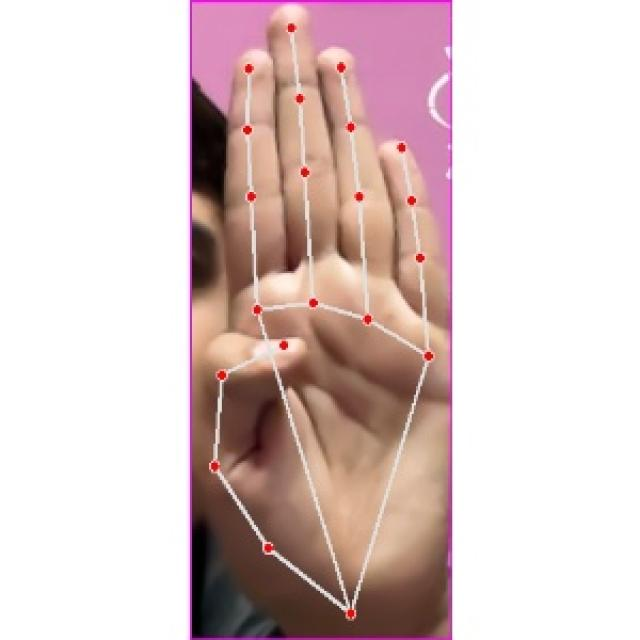B: (201, 1, 451, 640)
